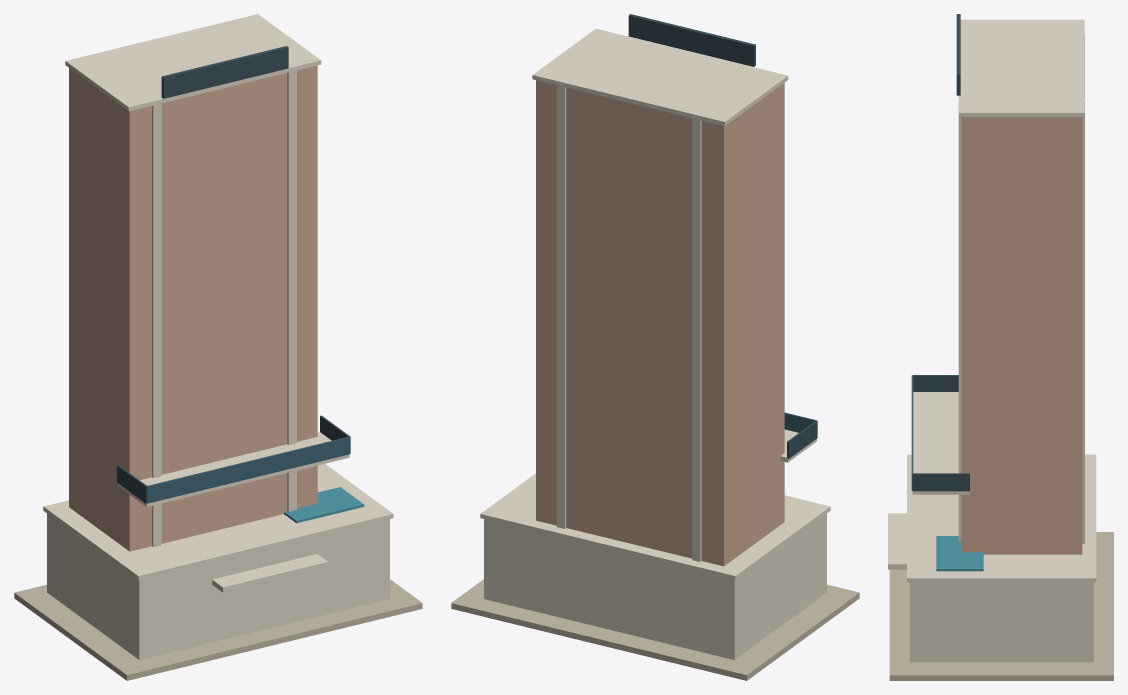
The model's file is hotel_lod.glb.
3 views of the same model, side by side, from view 1: azimuth 30°, elevation 25°; view 2: azimuth 150°, elevation 25°; view 3: azimuth 270°, elevation 25° (orthographic).
Visible parts, largest first — view 1: hotel_Building_Volume.001, hotel_Building_Volume, hotel_Roof_Coping.001, hotel_Roof_Coping, hotel_Site_Paving, hotel_Hotel_Fin, hotel_Hotel_Fin.001, hotel_Balcony_Glass, hotel_Sign_Backplate, hotel_Balcony_Slab, hotel_Arrival_Canopy, hotel_Rooftop_Pool; view 2: hotel_Building_Volume.001, hotel_Building_Volume, hotel_Roof_Coping.001, hotel_Site_Paving, hotel_Roof_Coping, hotel_Hotel_Fin, hotel_Hotel_Fin.001, hotel_Sign_Backplate; view 3: hotel_Building_Volume.001, hotel_Building_Volume, hotel_Roof_Coping.001, hotel_Roof_Coping, hotel_Site_Paving, hotel_Balcony_Slab, hotel_Hotel_Fin.001, hotel_Rooftop_Pool, hotel_Balcony_Rail.001, hotel_Arrival_Canopy, hotel_Balcony_Rail, hotel_Sign_Backplate.
Part boxes in pixels (<box>): hotel_Building_Volume.001: <box>69,65,317,551</box>; hotel_Building_Volume: <box>47,513,389,659</box>; hotel_Roof_Coping.001: <box>65,14,321,111</box>; hotel_Roof_Coping: <box>43,464,393,580</box>; hotel_Site_Paving: <box>14,579,422,680</box>; hotel_Hotel_Fin: <box>152,101,161,547</box>; hotel_Hotel_Fin.001: <box>287,68,296,511</box>; hotel_Balcony_Glass: <box>146,436,350,503</box>; hotel_Sign_Backplate: <box>161,46,288,98</box>; hotel_Balcony_Slab: <box>118,432,349,506</box>; hotel_Arrival_Canopy: <box>212,554,328,592</box>; hotel_Rooftop_Pool: <box>284,487,364,523</box>; hotel_Building_Volume.001: <box>536,80,784,566</box>; hotel_Building_Volume: <box>484,513,826,659</box>; hotel_Roof_Coping.001: <box>532,29,788,125</box>; hotel_Site_Paving: <box>451,579,859,680</box>; hotel_Roof_Coping: <box>480,473,830,580</box>; hotel_Hotel_Fin: <box>692,115,701,561</box>; hotel_Hotel_Fin.001: <box>557,82,566,528</box>; hotel_Sign_Backplate: <box>628,14,755,66</box>; hotel_Building_Volume.001: <box>961,117,1082,554</box>; hotel_Building_Volume: <box>909,582,1093,662</box>; hotel_Roof_Coping.001: <box>959,19,1084,116</box>; hotel_Roof_Coping: <box>907,454,1096,582</box>; hotel_Site_Paving: <box>889,532,1113,680</box>; hotel_Balcony_Slab: <box>912,392,969,494</box>; hotel_Hotel_Fin.001: <box>958,99,1084,543</box>; hotel_Rooftop_Pool: <box>936,536,983,571</box>; hotel_Balcony_Rail.001: <box>912,473,969,491</box>; hotel_Arrival_Canopy: <box>888,513,906,569</box>; hotel_Balcony_Rail: <box>912,375,958,391</box>; hotel_Sign_Backplate: <box>956,14,960,95</box>.
Size of the model in its own units: 11.8 by 21.4 by 7.85.
